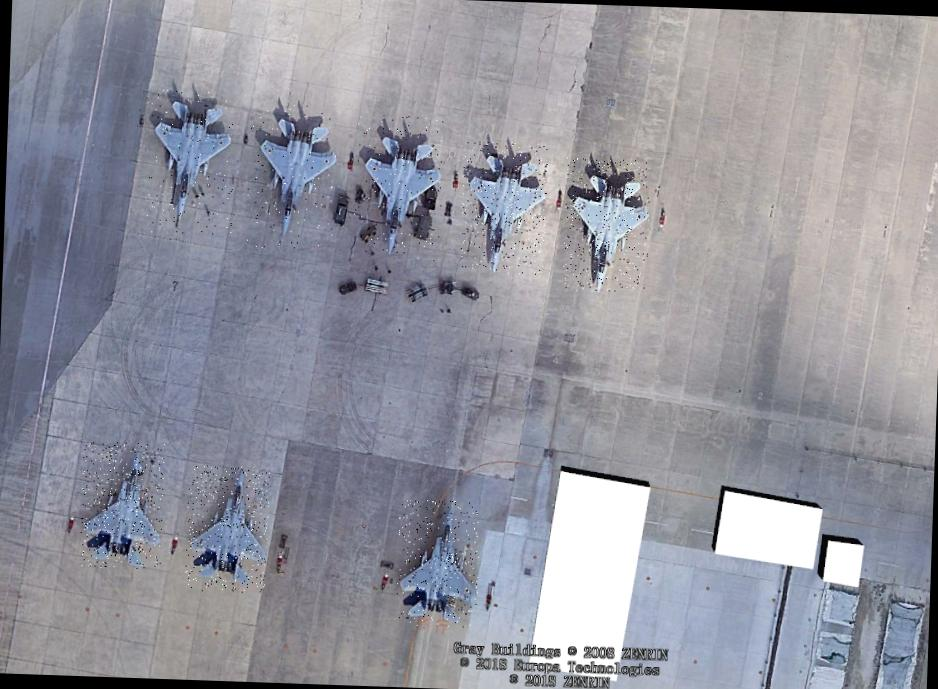A13: (245, 102, 338, 250), (144, 86, 236, 234), (352, 114, 444, 262), (460, 138, 548, 274), (562, 157, 650, 293), (184, 464, 270, 593), (79, 440, 164, 570), (396, 498, 480, 628)
